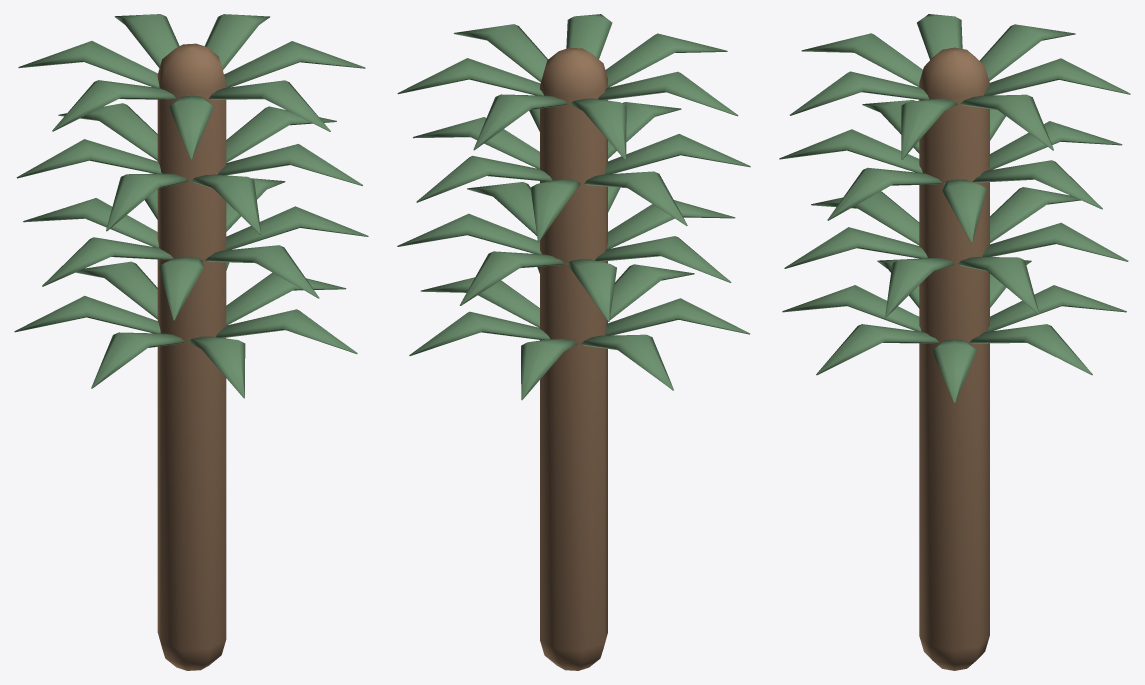
The model's file is org_lycophyte.glb.
3 views of the same model, side by side, from view 1: azimuth 30°, elevation 25°; view 2: azimuth 150°, elevation 25°; view 3: azimuth 270°, elevation 25° (orthographic).
Parts seen in each view (by area): view 1: Foliage, Trunk; view 2: Foliage, Trunk; view 3: Foliage, Trunk.
Part boxes in pixels (bbox=[...]): Foliage: bbox=[14, 14, 368, 398]; Trunk: bbox=[157, 43, 226, 670]; Foliage: bbox=[397, 14, 750, 400]; Trunk: bbox=[540, 47, 607, 670]; Foliage: bbox=[779, 14, 1130, 403]; Trunk: bbox=[919, 47, 989, 670].
Bounding box in the file's own units: 1.45 × 2.8 × 1.45.
